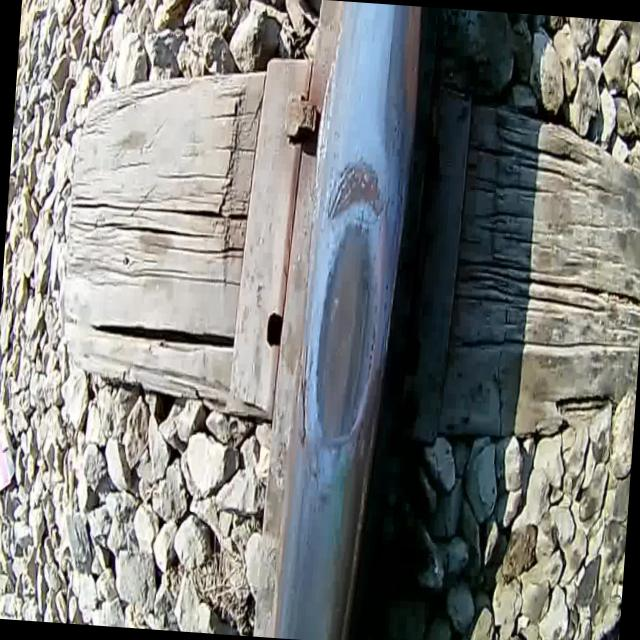Cracks: (292, 338, 319, 457), (362, 316, 380, 406)
Squats: (291, 214, 400, 468), (320, 148, 394, 232)
